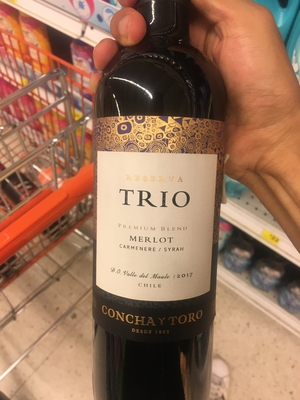trio merlot: (75, 20, 256, 394)
